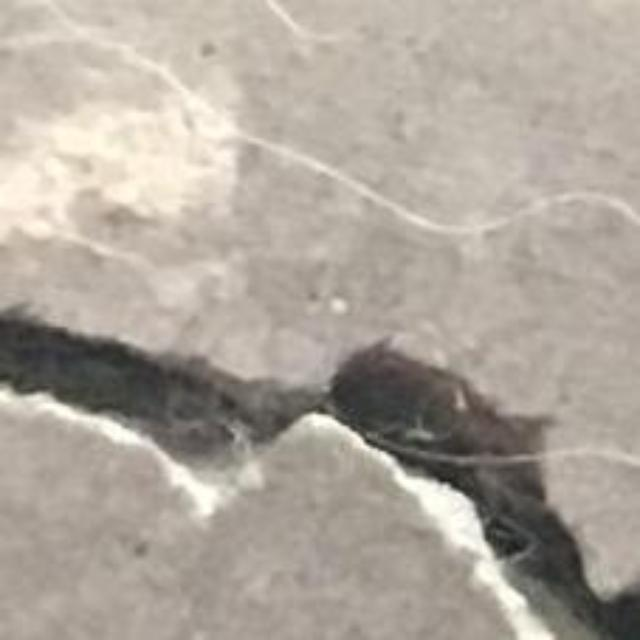crack: (0, 311, 639, 639)
